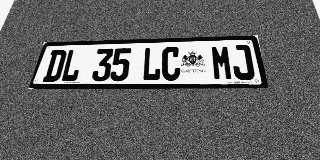3: (91, 48, 114, 81)
5: (109, 48, 131, 81)
C: (161, 47, 180, 81)
D: (42, 50, 67, 82)
J: (230, 45, 256, 80)
L: (59, 49, 84, 82), (141, 47, 162, 81)
M: (210, 45, 234, 80)
